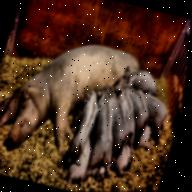boar: (0, 24, 189, 192)
